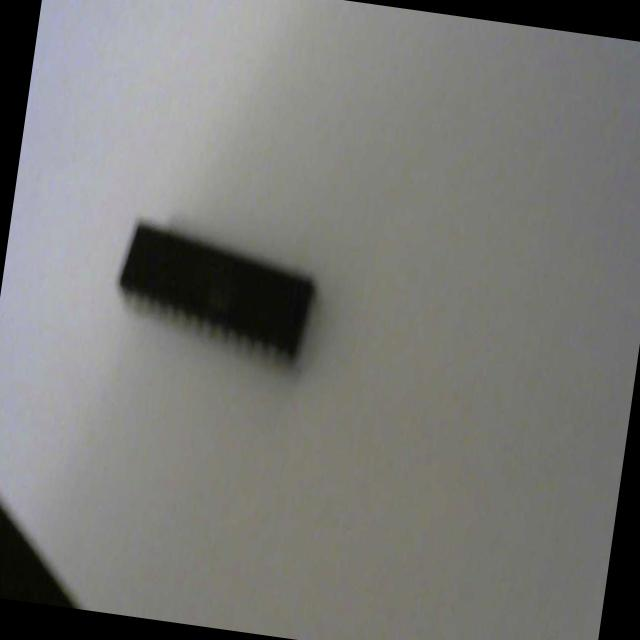atmega: (106, 209, 325, 375)
